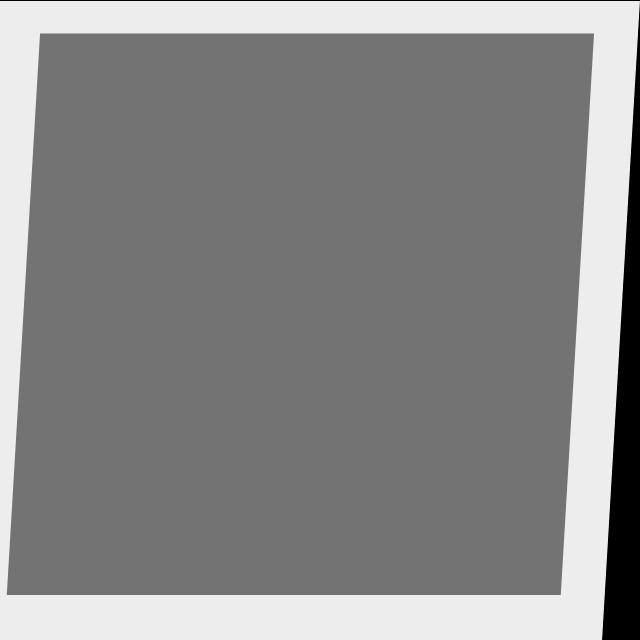qr_code: (14, 33, 594, 594)
